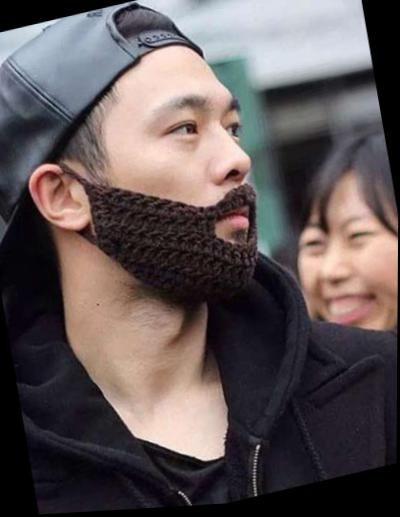NONE: (283, 175, 399, 374)
WRONG: (95, 55, 274, 313)
